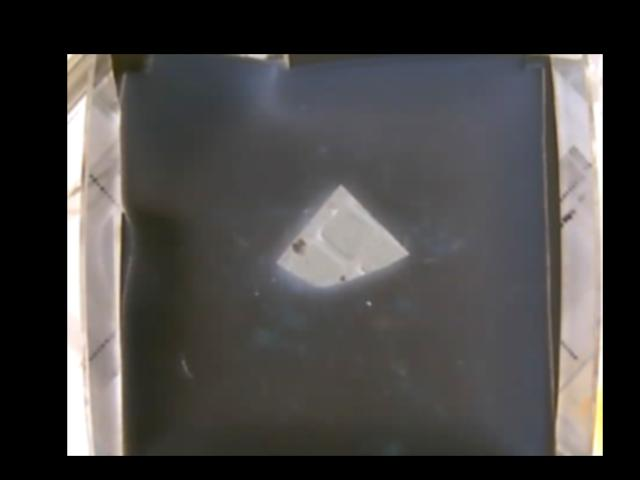China: (277, 186, 409, 285)
